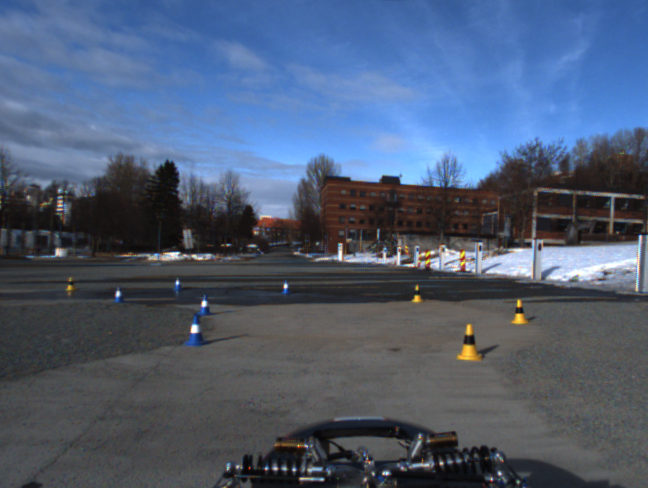cone-small-blue: (185, 315, 208, 346), (197, 294, 212, 315), (113, 286, 124, 303), (281, 280, 292, 294), (173, 275, 182, 290)
cone-small-yellow: (456, 324, 485, 362), (510, 300, 529, 323), (409, 283, 424, 303), (66, 276, 75, 290)
